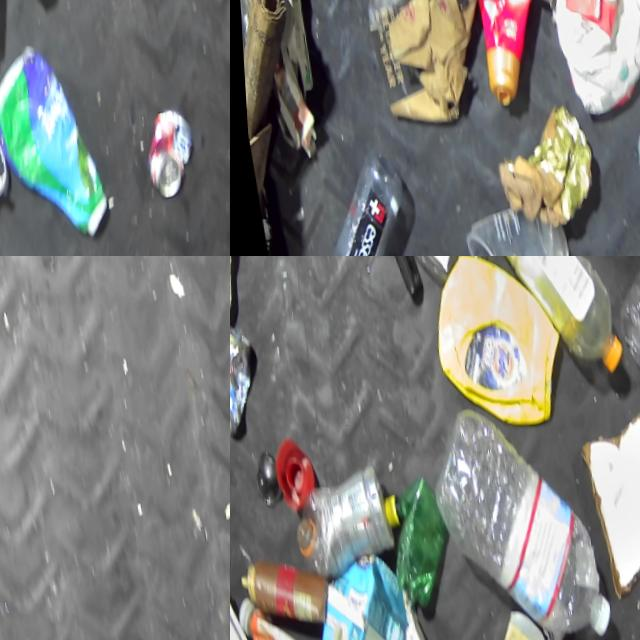can: (131, 110, 197, 211), (230, 322, 261, 441)
milk_jug: (537, 0, 640, 126)
non_white_jug: (419, 256, 569, 445), (0, 38, 107, 256), (302, 545, 438, 640), (453, 0, 558, 114)
plastic_bottle: (416, 390, 607, 640), (486, 256, 623, 396), (284, 469, 394, 587), (305, 145, 414, 256), (606, 256, 640, 387)
